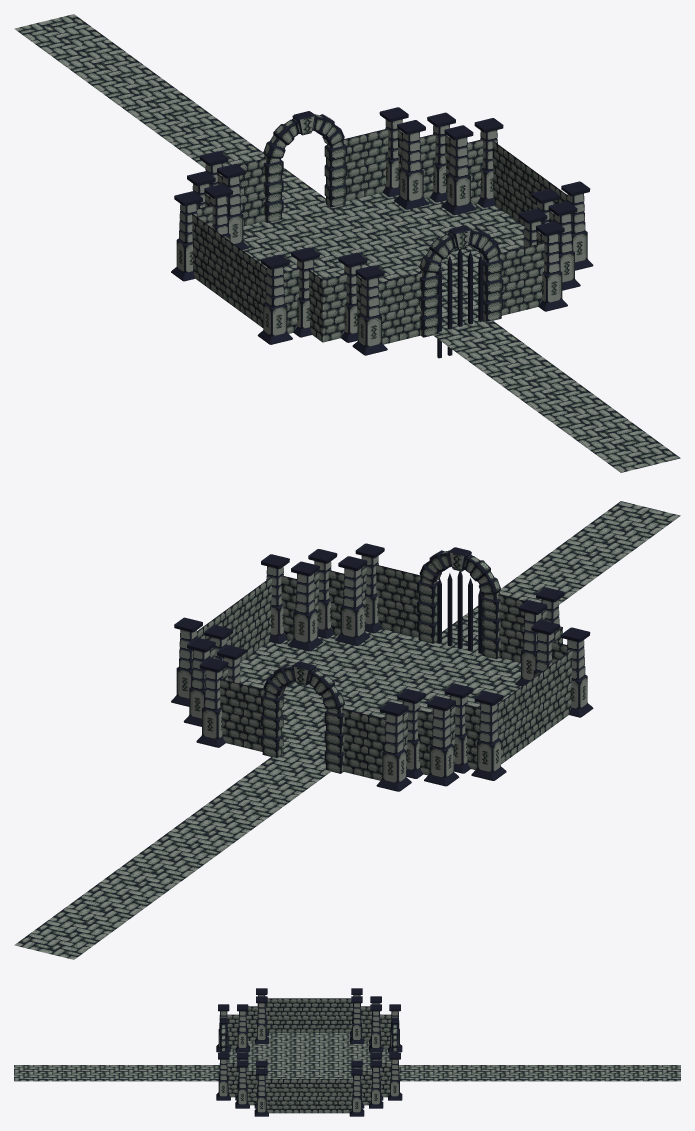
Rendered from Level_shop.fbx.
3 renders of one model, top to bottom at view 1: azimuth 30°, elevation 25°; view 2: azimuth 150°, elevation 25°; view 3: azimuth 270°, elevation 25°, orthographic. The views are drawn at different scales.
Parts seen in each view (by area): view 1: level_shop; view 2: level_shop; view 3: level_shop.
Boxes of the visible parts, box(x1,y1,x2,y2) form: level_shop: box(14, 14, 680, 472); level_shop: box(14, 501, 680, 959); level_shop: box(14, 988, 680, 1116).
Size of the model in its own units: 53.88 by 19.67 by 175.
